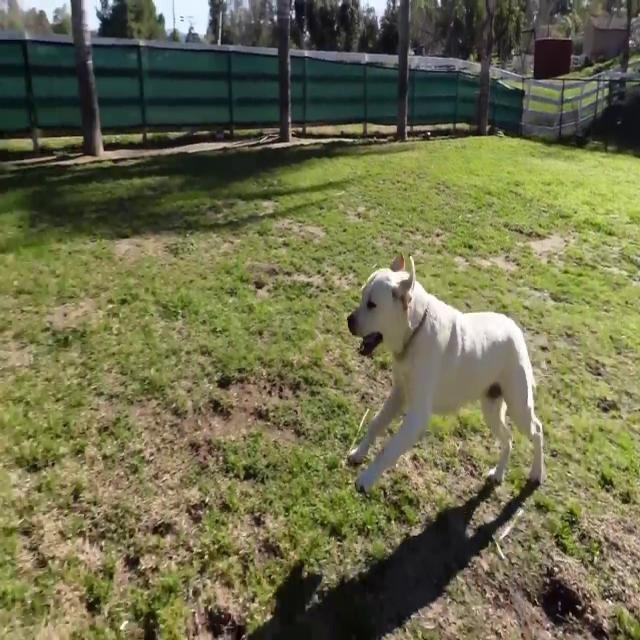Dog: (346, 252, 544, 494)
